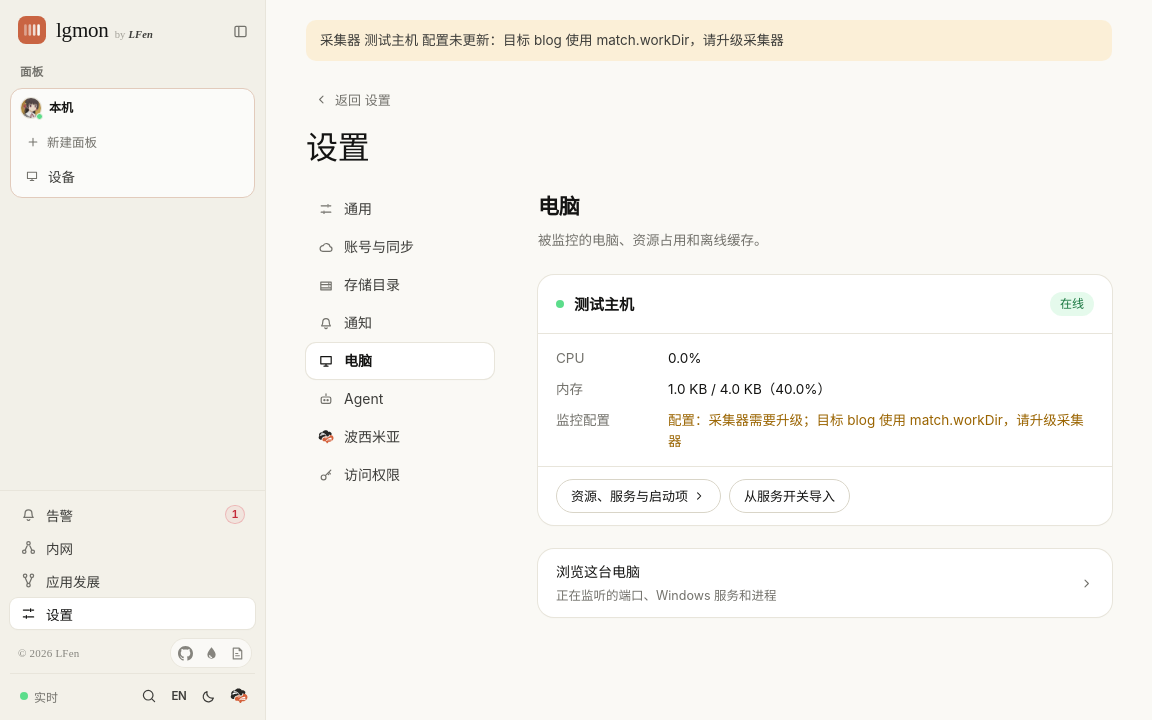
Test: shows and clears collector configuration outdated notices
This screenshot has width=1152, height=720.
Click the button with aria-label "刷新数据": (39, 696) [12, 682, 66, 710]
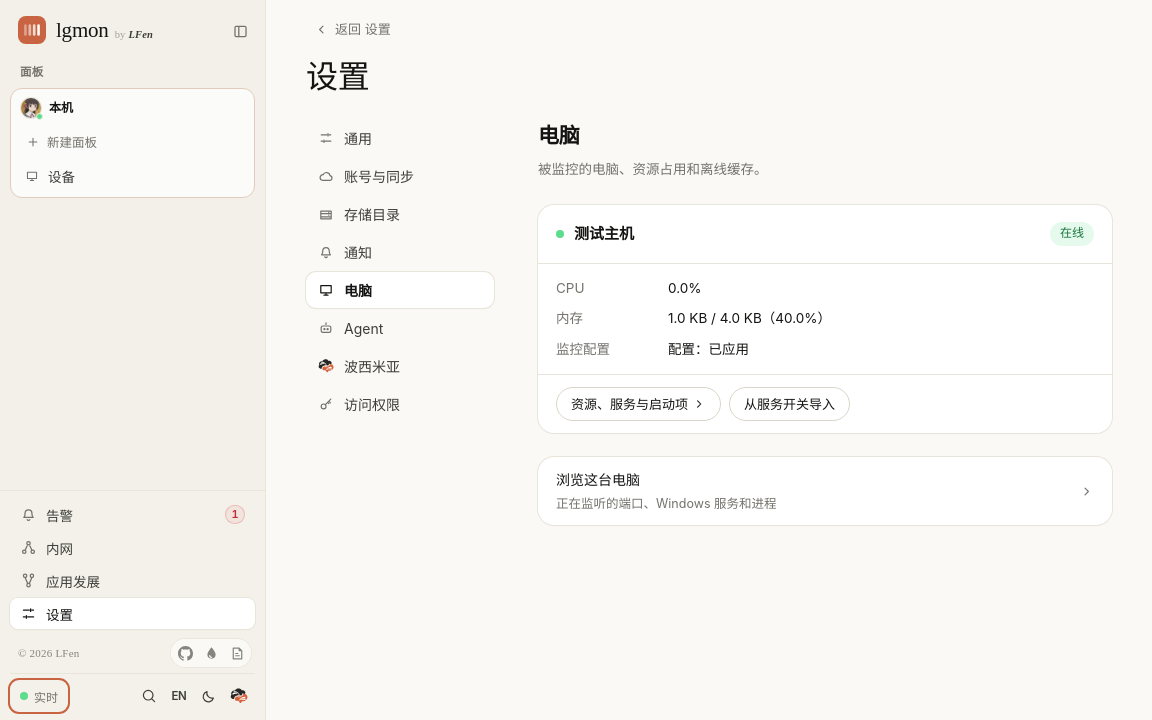
Result: the text "配置：已应用" is shown at [668, 341, 749, 357]
